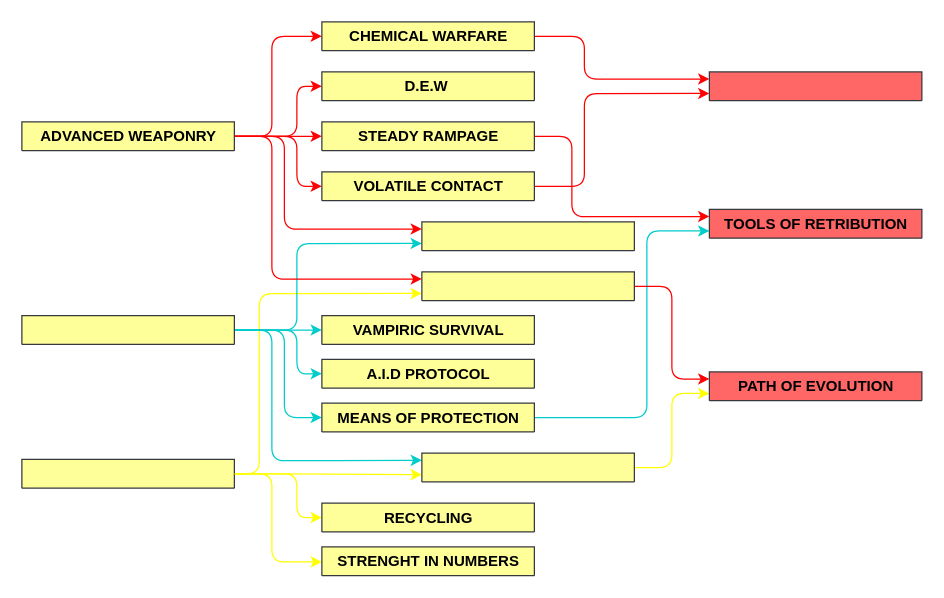
Image size: 944x598. Some labels were removed from this diagram. The centre of each missing label's shape, as x and y in pixels:
"BASIC FOUNDATION" belongs at [127,329].
"CELERITY" belongs at [527,286].
"ECONOMY 101" belongs at [127,473].
"HASTEN GROWTH" belongs at [527,467].
"WEAPONS OF MASS DESTRUCTION" belongs at [815,86].
"WHITHER AND STRAIN" belongs at [527,236].
